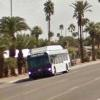Bus: (25, 45, 75, 77)
